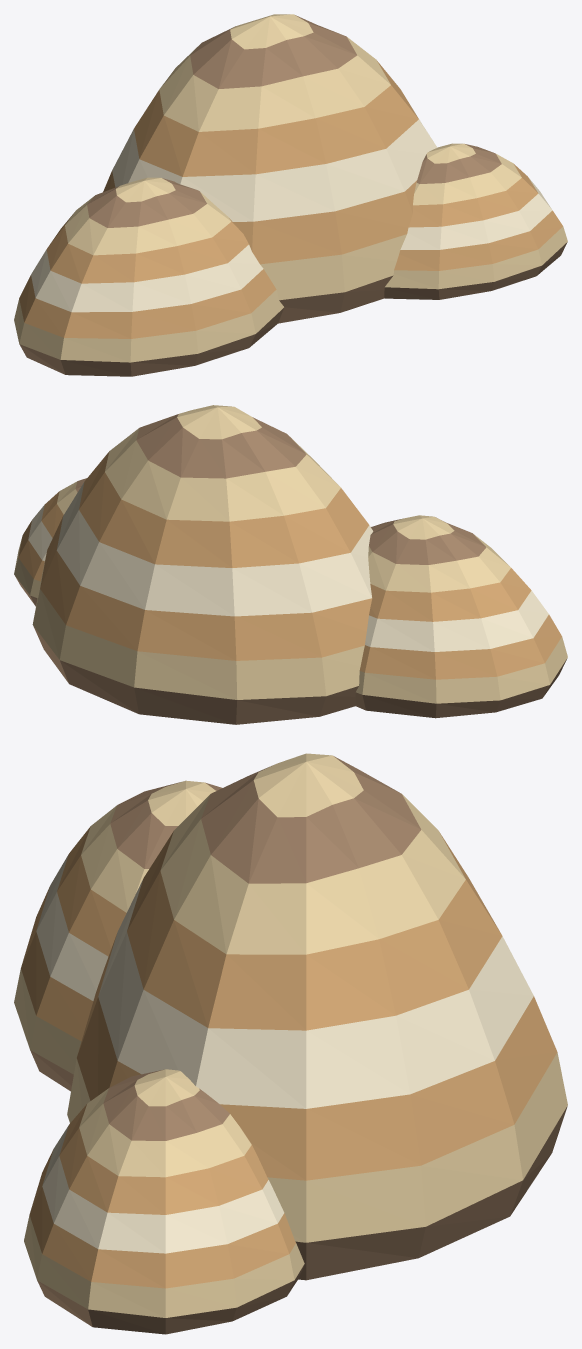
The model's file is stromatolite.58354214fa14.glb.
3 views of the same model, one above another, from view 1: azimuth 30°, elevation 25°; view 2: azimuth 150°, elevation 25°; view 3: azimuth 270°, elevation 25° (orthographic). The views are drawn at different scales.
Visible parts, largest first — view 1: stromatolite; view 2: stromatolite; view 3: stromatolite.
Part boxes in pixels (x1,y1,x2,y2): stromatolite: [14, 14, 567, 376]; stromatolite: [14, 405, 567, 724]; stromatolite: [14, 753, 567, 1334].
Bounding box in the file's own units: 1 × 0.4433 × 0.5692.
